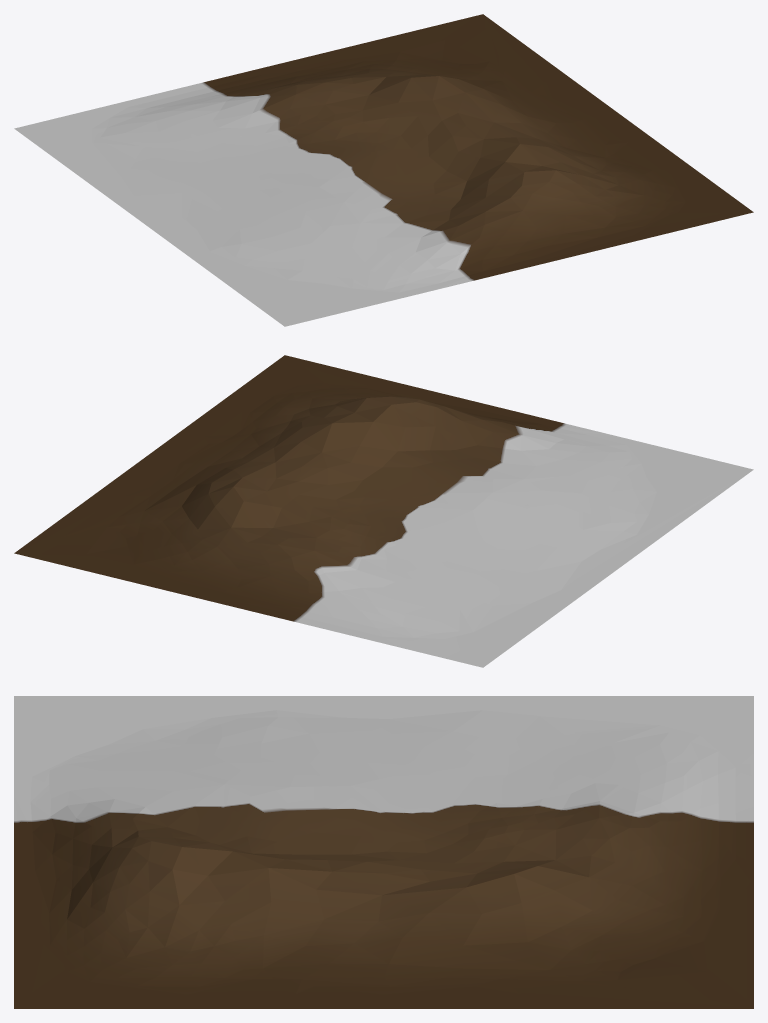
Rendered from Terrain_03.fbx.
3 views of the same model, one above another, from view 1: azimuth 30°, elevation 25°; view 2: azimuth 150°, elevation 25°; view 3: azimuth 270°, elevation 25° (orthographic). The views are drawn at different scales.
Visible parts, largest first — view 1: Terrain_03; view 2: Terrain_03; view 3: Terrain_03.
Part boxes in pixels (x1,y1,x2,y2): Terrain_03: (14, 14, 753, 326); Terrain_03: (14, 355, 753, 667); Terrain_03: (14, 696, 753, 1008).
Size of the model in its own units: 128 by 9.76 by 128.
